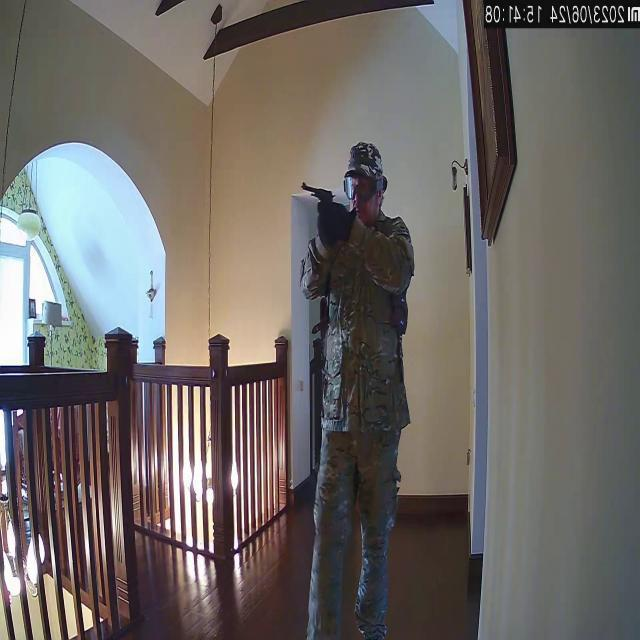pistol: (300, 180, 336, 207)
